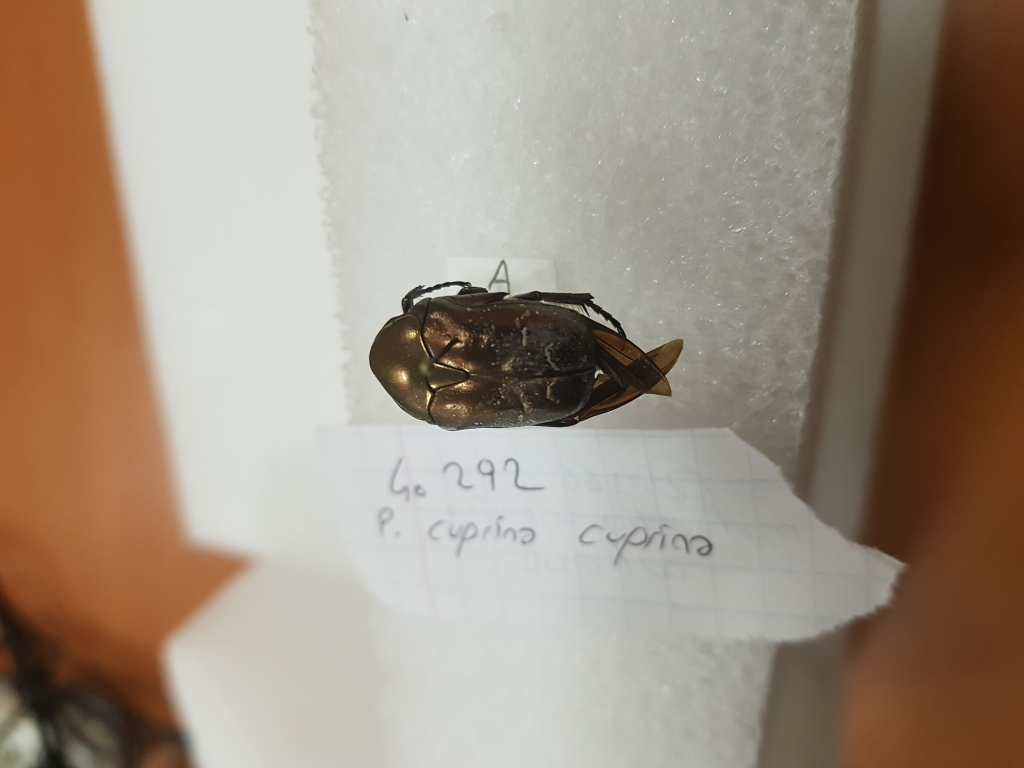Protaetia_cuprina_cuprina: (367, 253, 698, 437)
